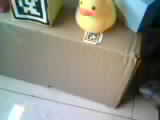duck: (69, 4, 122, 34)
